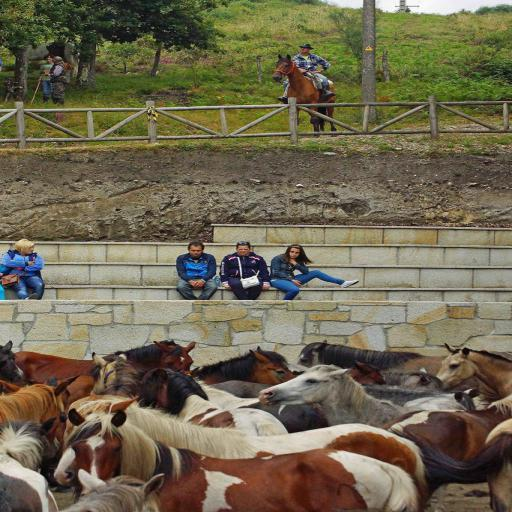horse: (0, 338, 512, 512), (271, 54, 337, 137)
